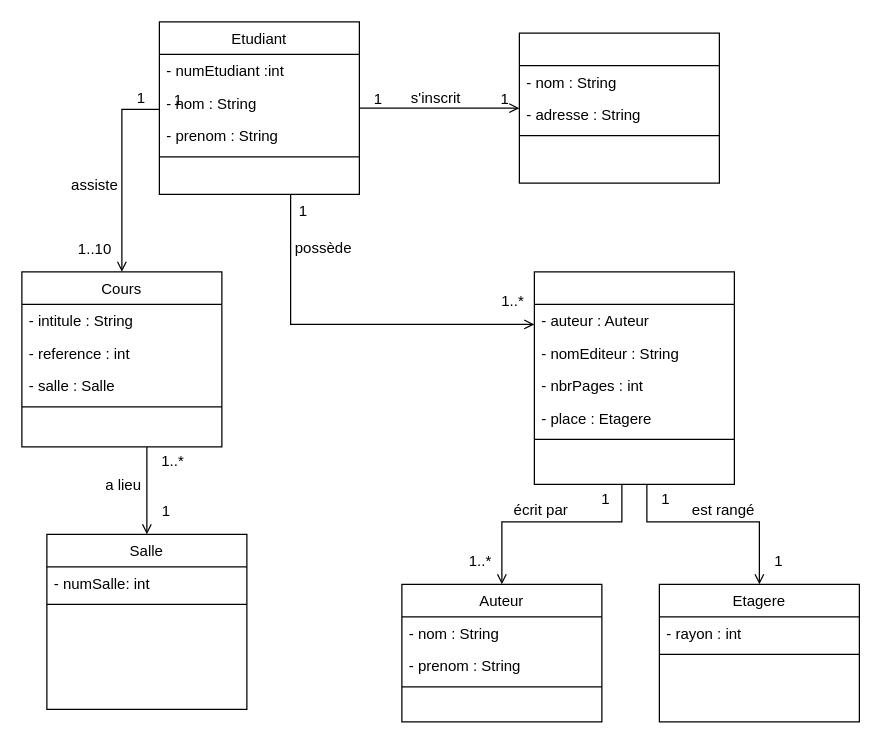
Image size: 881x744. Some labels were removed from this diagram. Each missing label, with the box of its shape:
Livre: (533, 271, 734, 484)
Universite: (518, 32, 719, 183)
